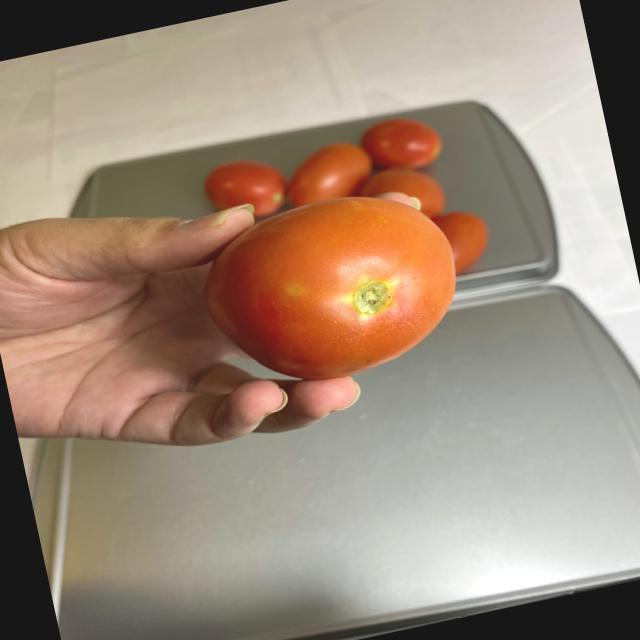tomato: (186, 174, 481, 398)
